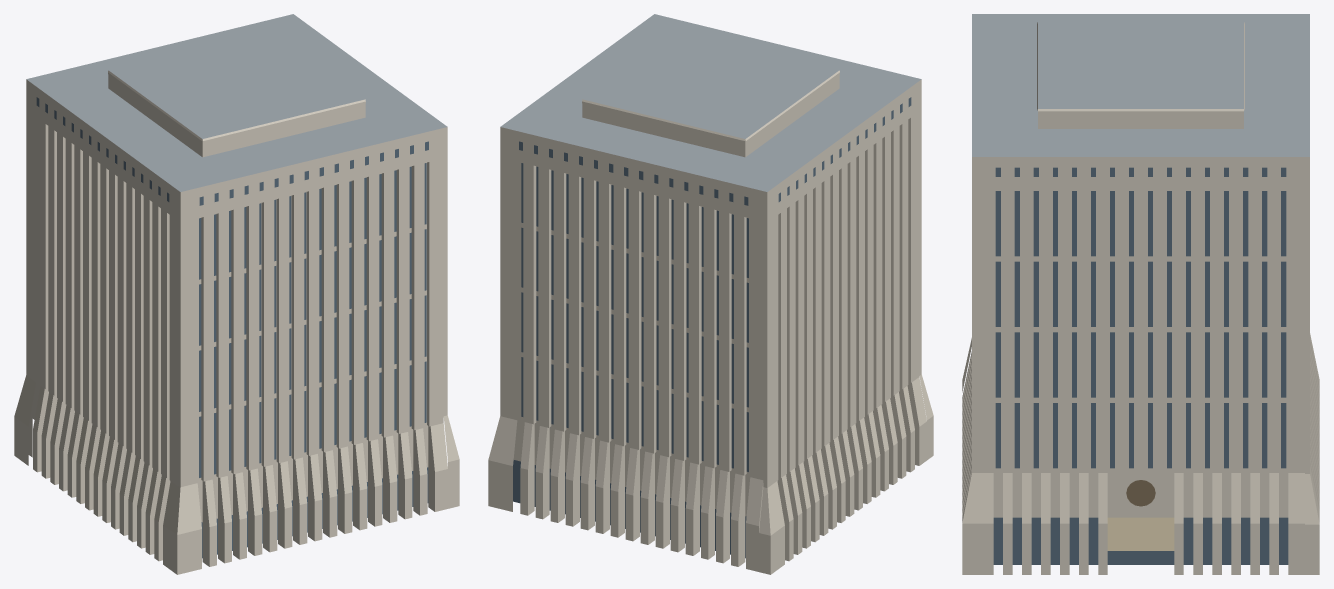
Rendered from ral-wake-county-courthouse.glb.
The picture shows the model from 3 angles, left to right: view 1: azimuth 30°, elevation 25°; view 2: azimuth 150°, elevation 25°; view 3: azimuth 270°, elevation 25°; orthographic projection. The views are drawn at different scales.
Visible parts, largest first — view 1: Wake County Courthouse; view 2: Wake County Courthouse; view 3: Wake County Courthouse.
Part boxes in pixels (bbox=[...]): Wake County Courthouse: bbox=[14, 14, 459, 574]; Wake County Courthouse: bbox=[488, 14, 933, 574]; Wake County Courthouse: bbox=[962, 14, 1319, 574].
Size of the model in its own units: 48.5 by 65 by 48.5.
